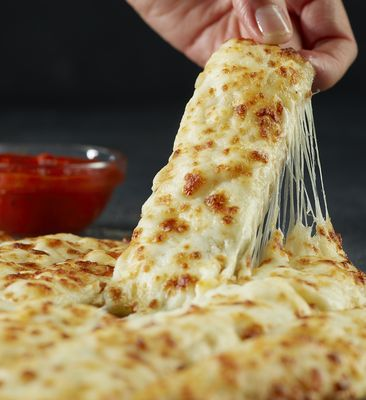sushi: (0, 143, 129, 239)
